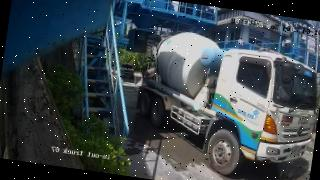cement_mixer_truck: (136, 32, 319, 174)
